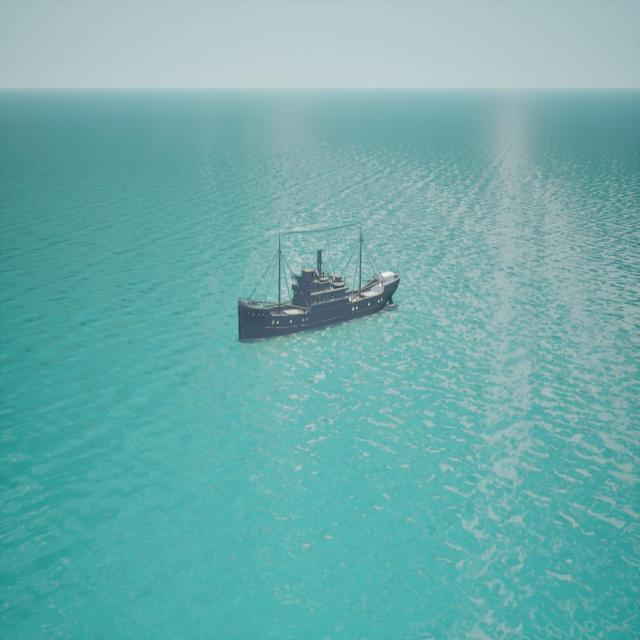fishing ship: (238, 232, 401, 345)
